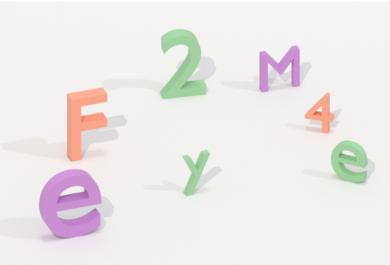2: (157, 24, 211, 102)
4: (300, 88, 337, 136)
F: (60, 83, 112, 167)
M: (254, 41, 303, 95)
e: (36, 165, 108, 241), (327, 137, 372, 190)
y: (179, 147, 214, 200)
